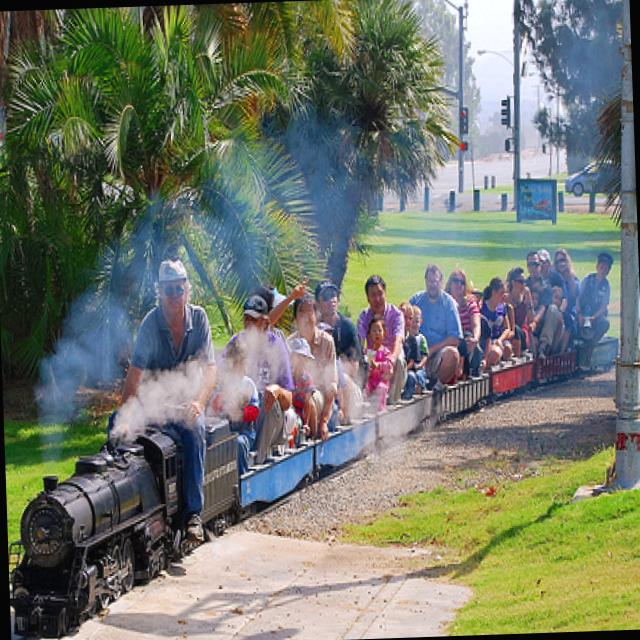Vehicle: (563, 161, 618, 195)
